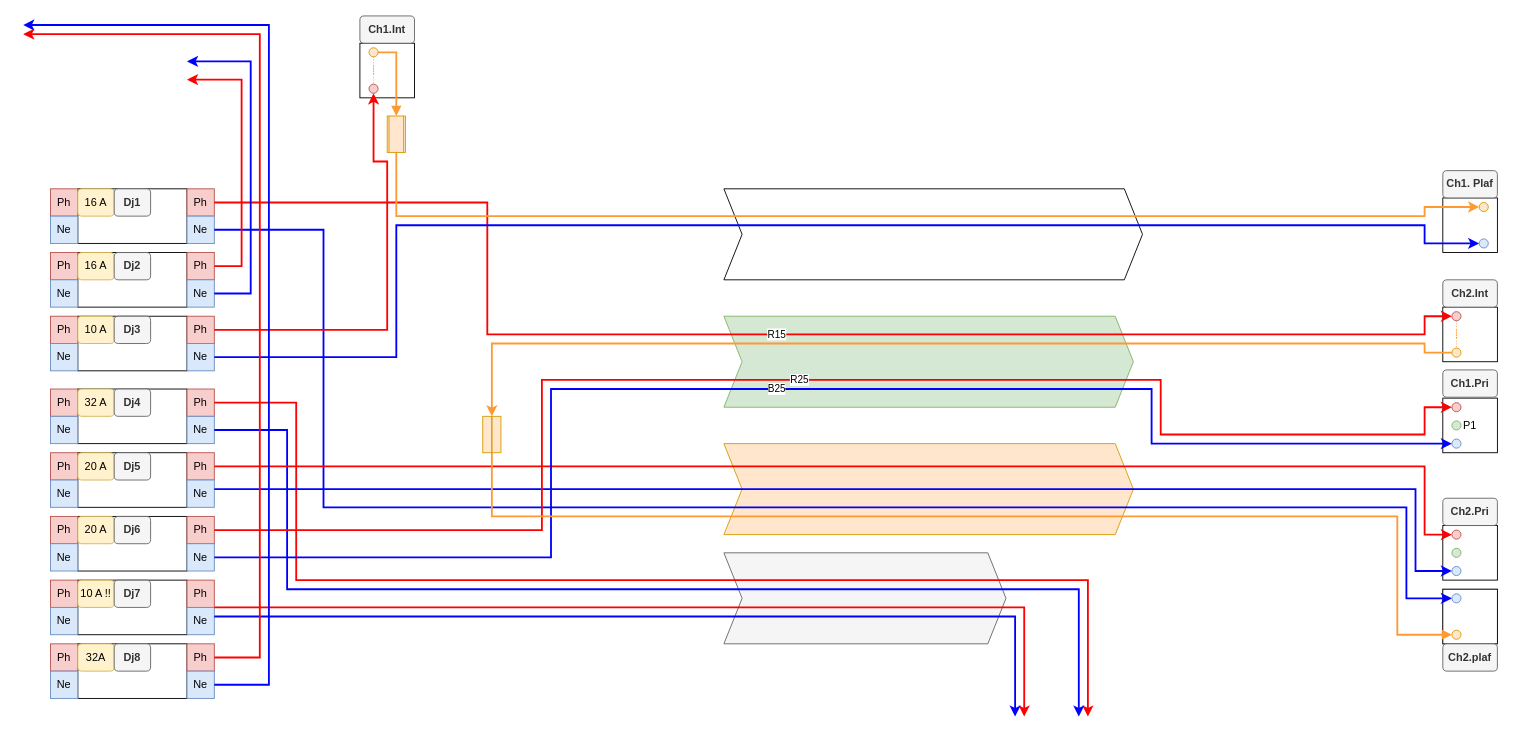
This 1513x741 diagram has some shape labels left out. Each missing label, with the box of its shape:
Bucher Plaf: (77, 252, 187, 307)
Bucher Prise: (77, 643, 187, 698)
Chambre1 Plaf: (77, 315, 187, 371)
Chambre1 Prise: (77, 516, 187, 571)
Chambre2 plaf: (77, 188, 187, 243)
Chambre2 Prise: (77, 452, 187, 507)
Cuisine Lumiere + Prise MC: (77, 579, 187, 635)
Cuisine Tableau: (77, 388, 187, 444)
